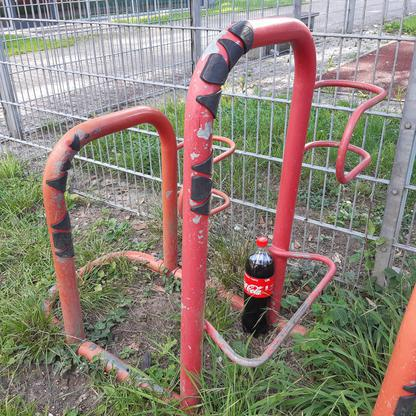coca-cola: (241, 235, 277, 339)
